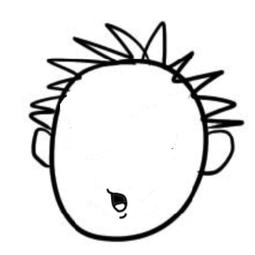ear: (194, 128, 245, 179), (27, 125, 57, 167)
open_mouth: (106, 190, 133, 211)
